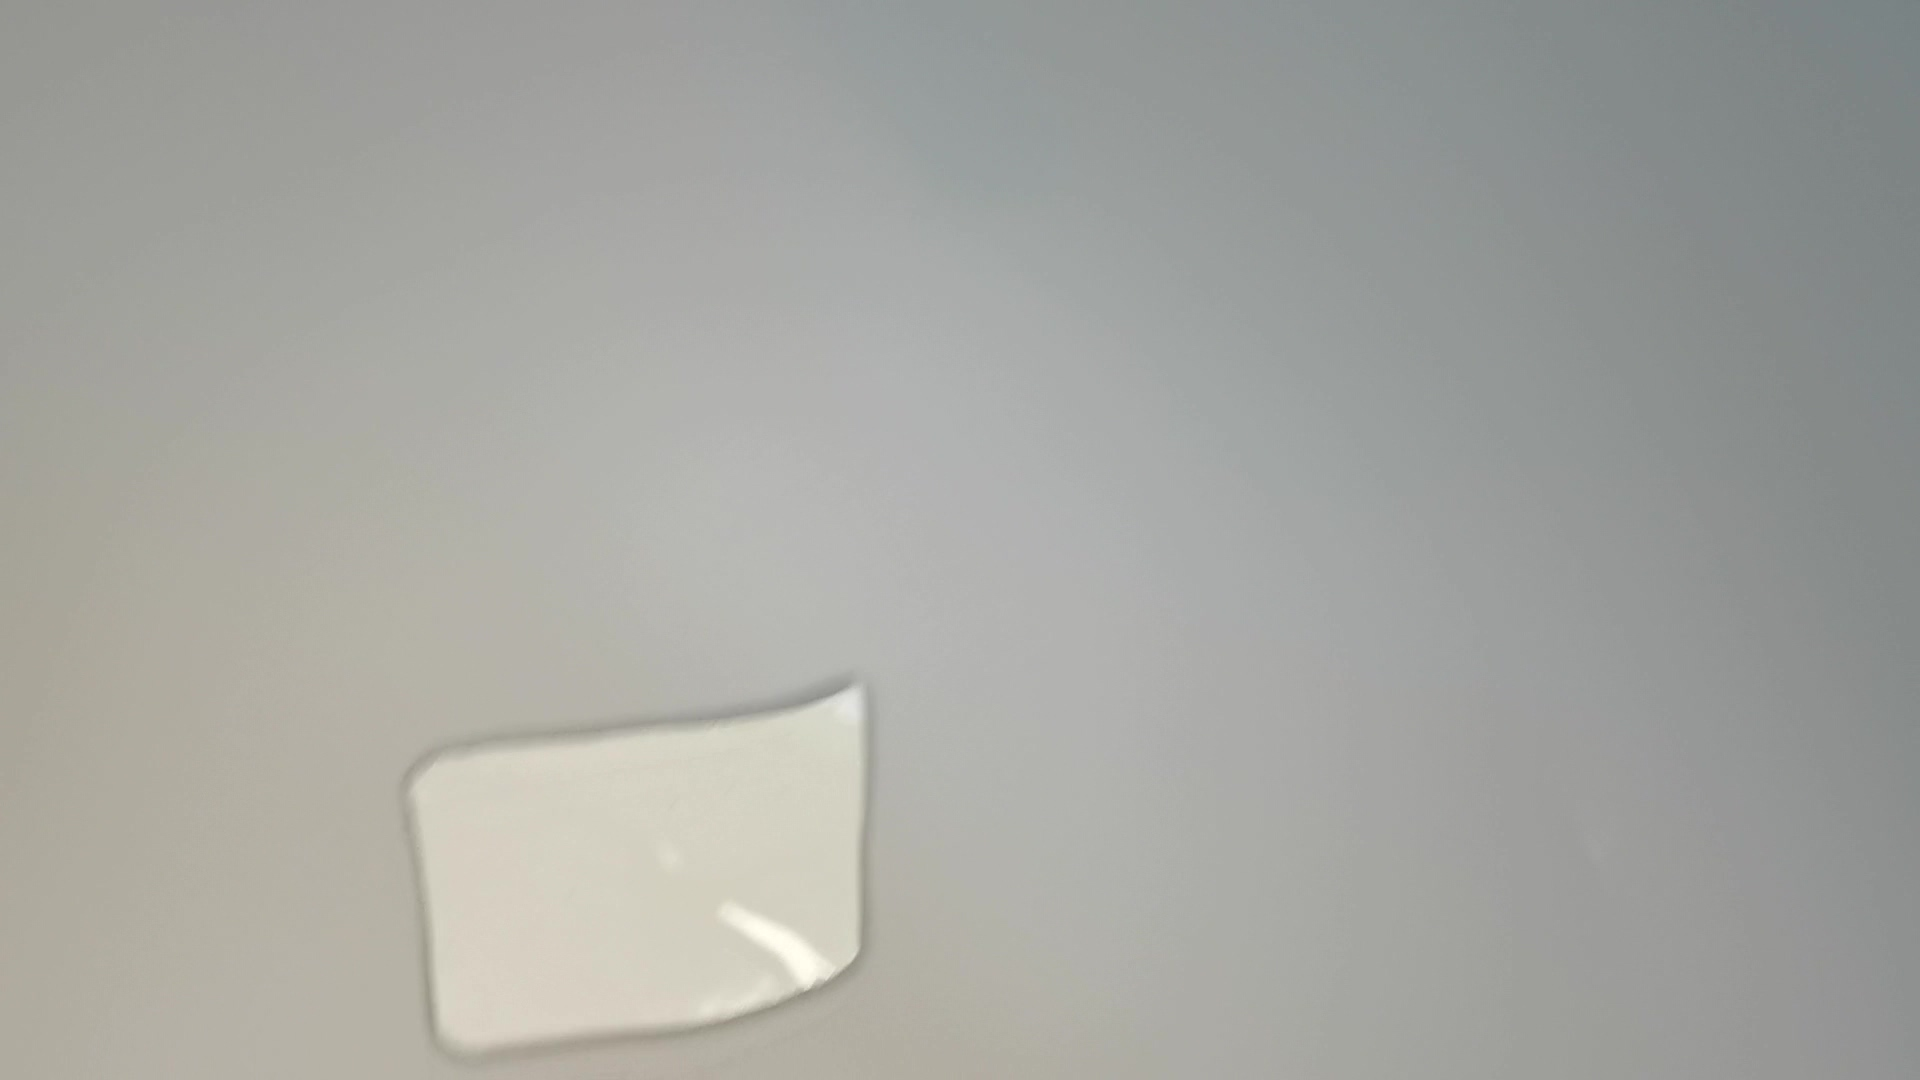ceramic: (392, 676, 881, 1058)
